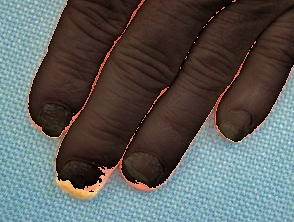Nail_psoriasis: (48, 143, 116, 209), (116, 140, 179, 196), (25, 88, 81, 145), (210, 95, 265, 151)
